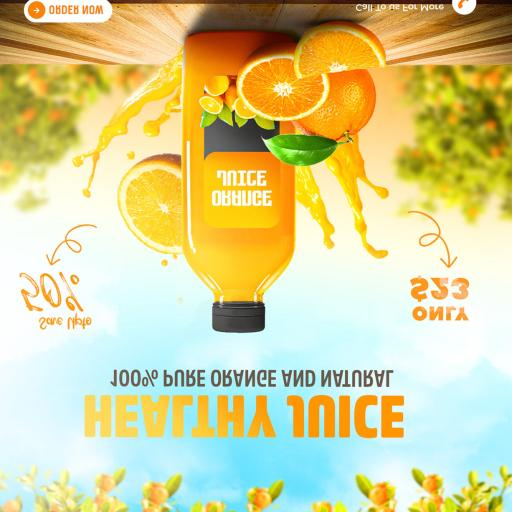bottle: (182, 32, 295, 332)
